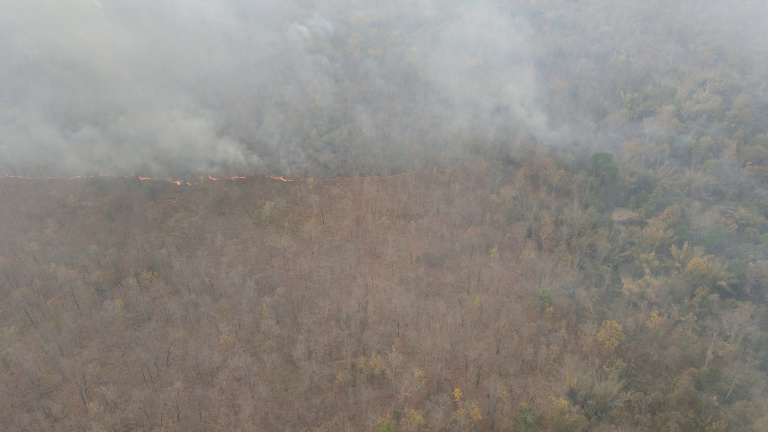fire: (1, 167, 491, 190)
smoke: (1, 1, 553, 179), (550, 1, 763, 258)
